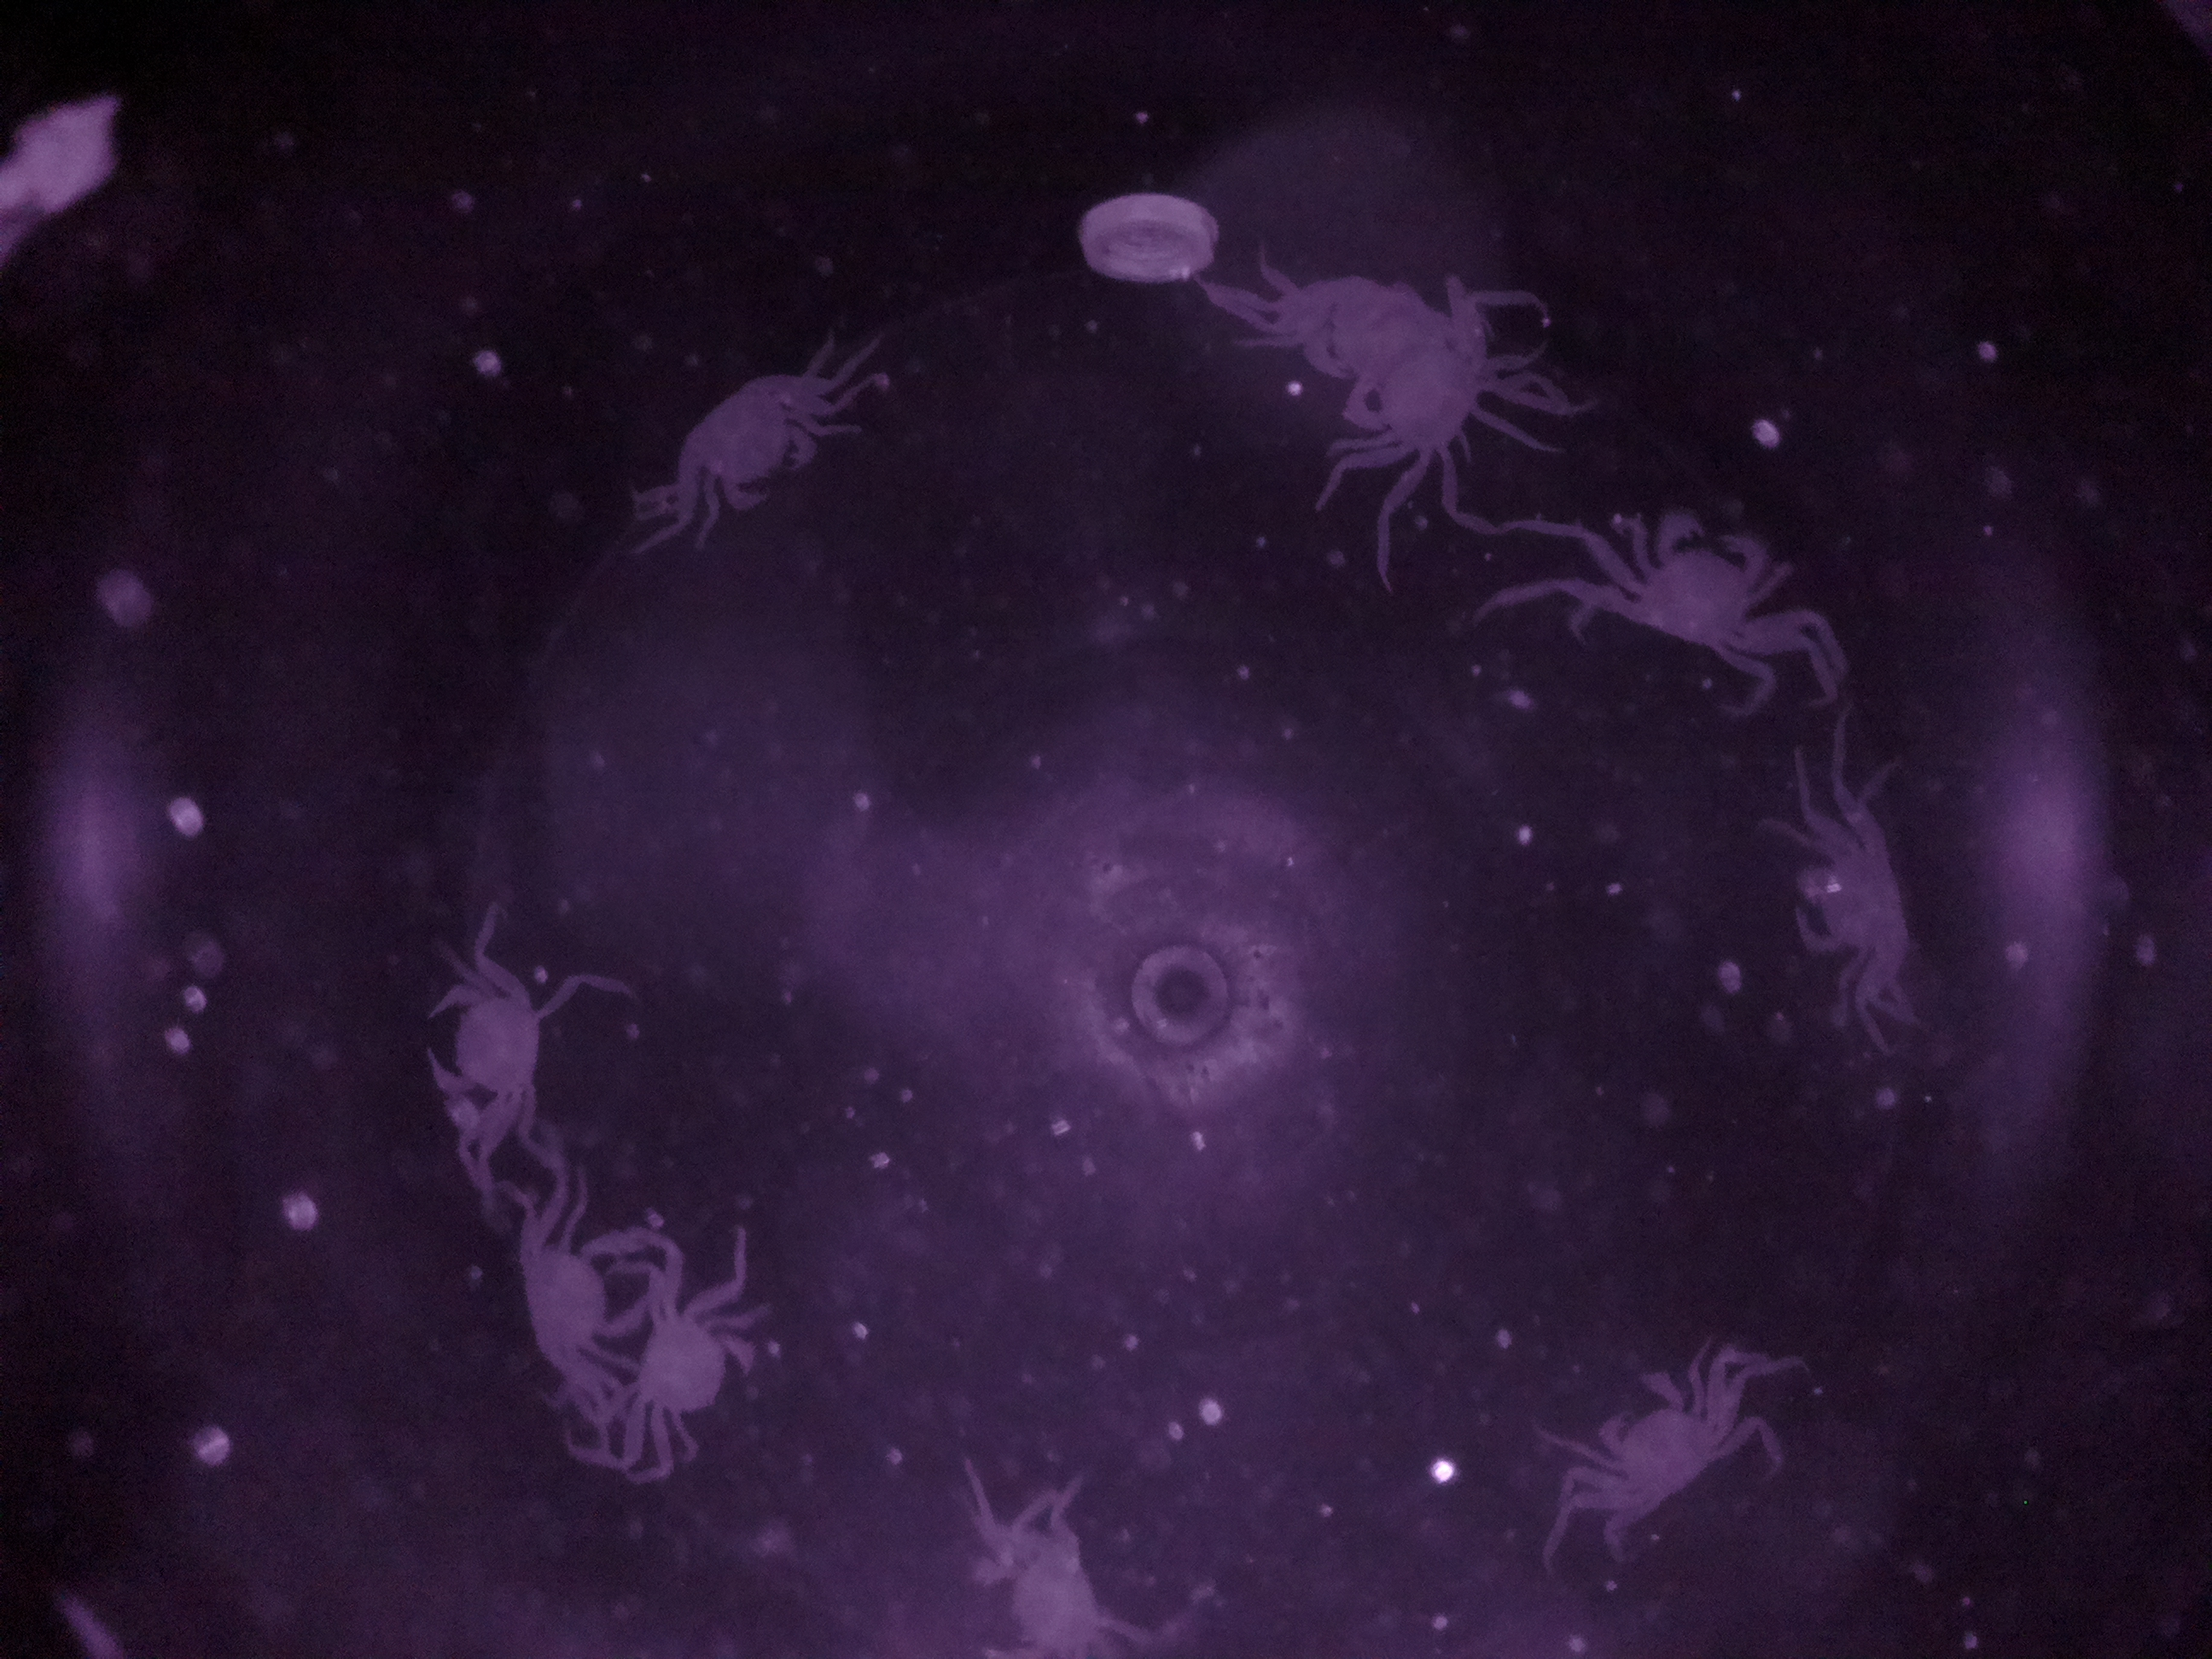Crab: (1581, 493, 1824, 669), (409, 929, 570, 1145), (610, 1270, 773, 1464), (1571, 1342, 1737, 1532), (496, 1195, 648, 1398), (678, 350, 834, 540)
